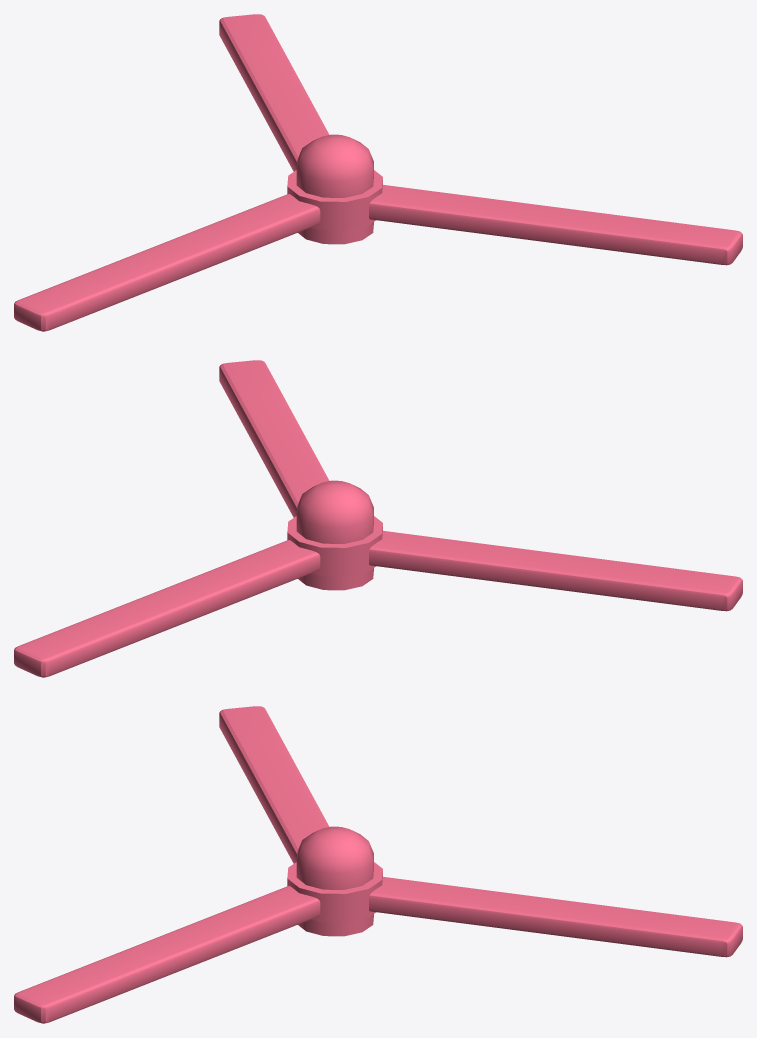
The model's file is Fan.fbx.
3 renders of one model, top to bottom at view 1: azimuth 30°, elevation 25°; view 2: azimuth 150°, elevation 25°; view 3: azimuth 270°, elevation 25°, orthographic.
Parts seen in each view (by area): view 1: obstacle_50; view 2: obstacle_50; view 3: obstacle_50.
Boxes of the visible parts, x1,y1,x2,y2 form: obstacle_50: [14, 14, 742, 331]; obstacle_50: [14, 360, 742, 677]; obstacle_50: [14, 706, 742, 1023].
Bounding box in the file's own units: 759 × 104 × 774.
